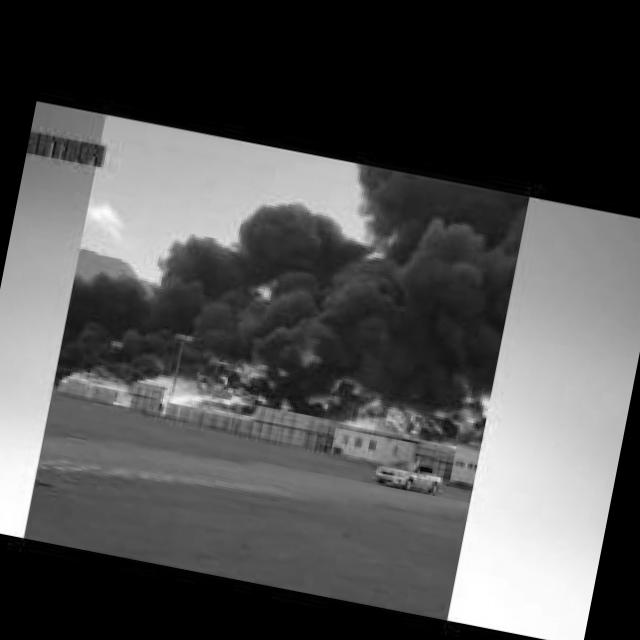fire: (64, 348, 263, 418), (334, 372, 486, 451)
smoke: (63, 113, 530, 420)
